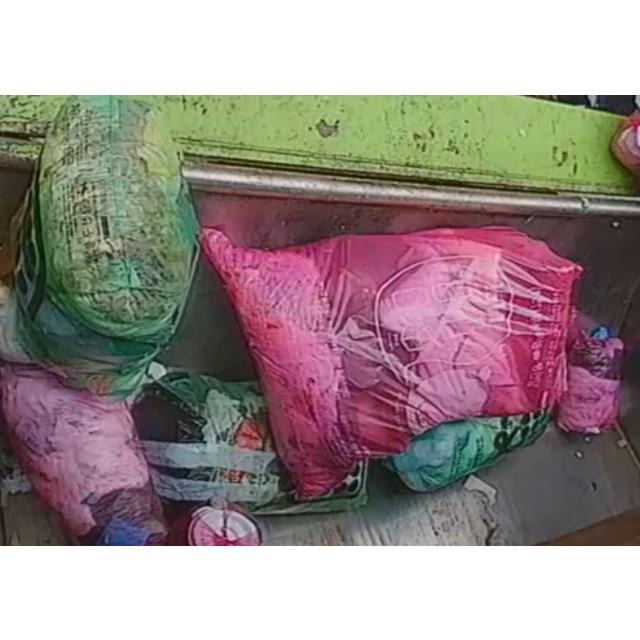general_trashbag: (15, 95, 196, 398), (132, 363, 368, 514), (384, 409, 550, 491)
other_trashbag: (201, 226, 582, 497), (0, 363, 168, 543), (556, 326, 624, 432)
